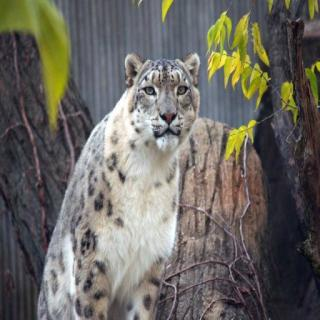Leopard: (34, 30, 203, 320)
